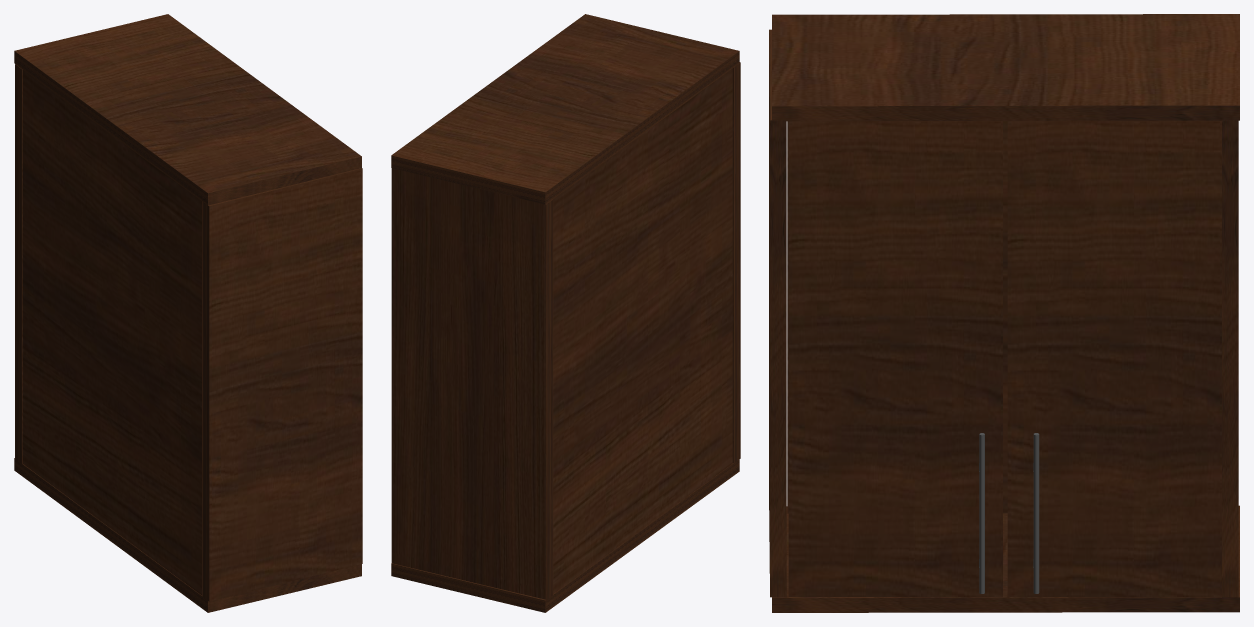
Rendered from armarioCocinaPared2.fbx.
3 renders of one model, left to right at view 1: azimuth 30°, elevation 25°; view 2: azimuth 150°, elevation 25°; view 3: azimuth 270°, elevation 25°, orthographic. The views are drawn at different scales.
Parts seen in each view (by area): view 1: Cube.082; view 2: Cube.082; view 3: Cube.082.
Boxes of the visible parts, x1,y1,x2,y2 form: Cube.082: [14, 14, 362, 612]; Cube.082: [391, 14, 740, 612]; Cube.082: [769, 14, 1239, 612].
Size of the model in its own units: 0.6399 by 1.51 by 1.26.
Materials: 2 (1 with a texture image).
